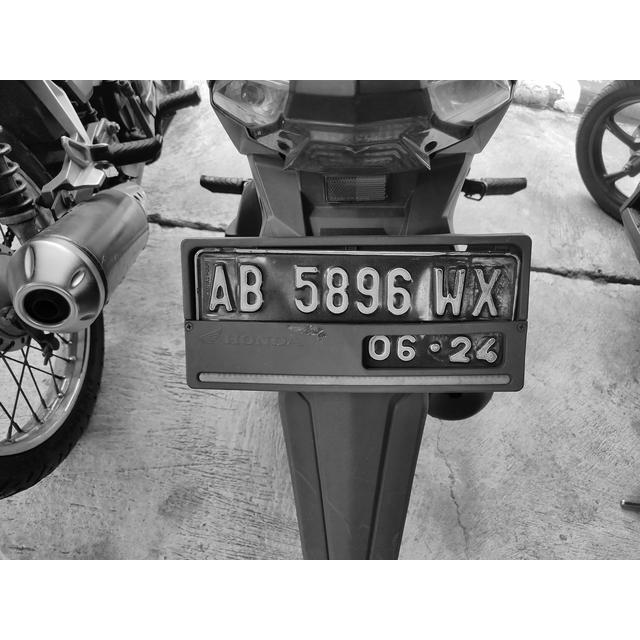license: (202, 256, 509, 371)
